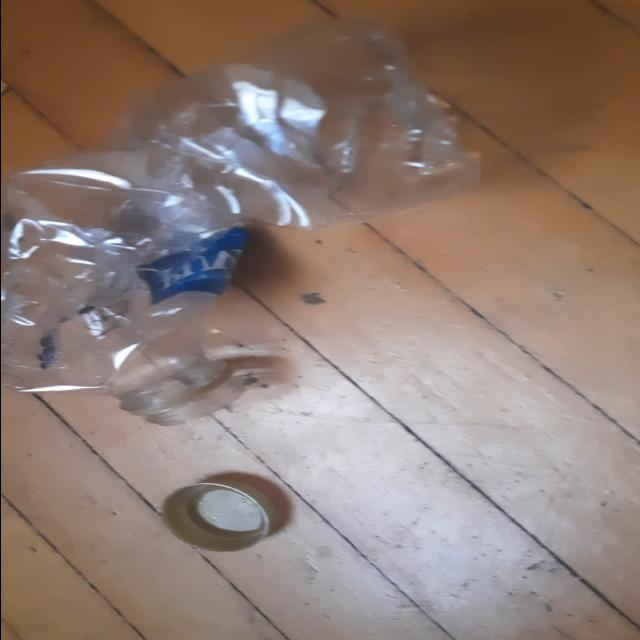Plastic: (2, 19, 482, 420)
